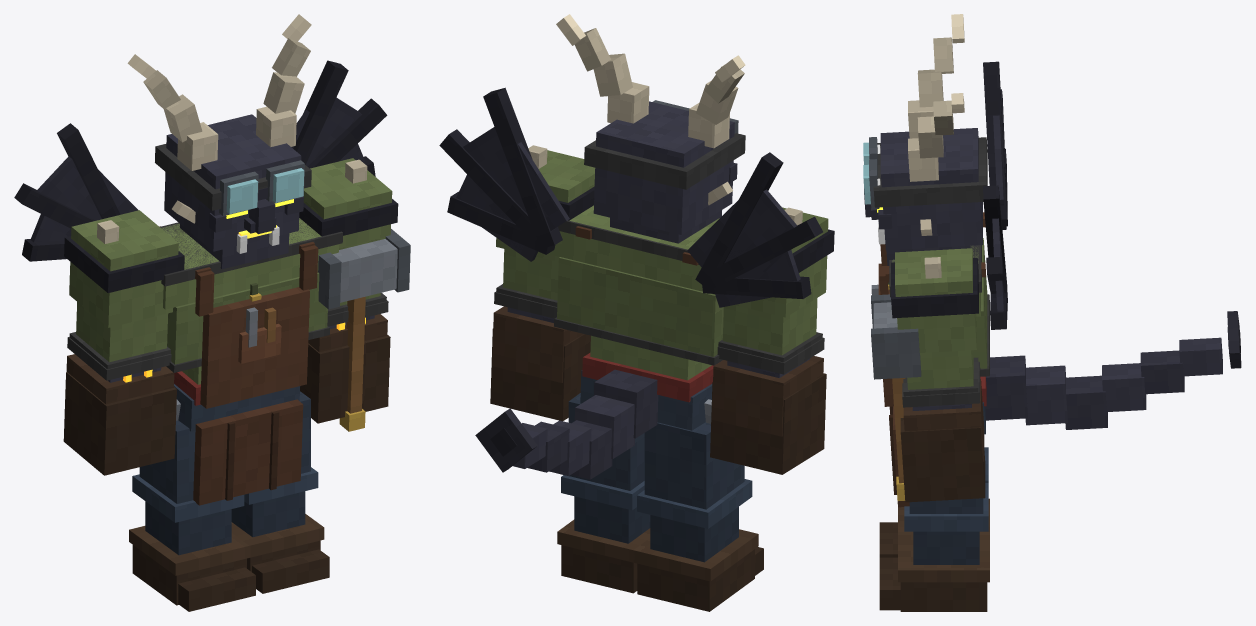
Rendered from demon_forgeron_v3.glb.
The picture shows the model from 3 angles, left to right: view 1: azimuth 30°, elevation 25°; view 2: azimuth 150°, elevation 25°; view 3: azimuth 270°, elevation 25°; orthographic projection. The views are drawn at different scales.
Parts seen in each view (by area): view 1: Torso, ArmR, Head, LegR, ArmL, LegL, HandL; view 2: Torso, Head, ArmR, LegR, ArmL, LegL; view 3: Torso, ArmL, Head, LegL, HandL, LegR.
Boxes of the visible parts, x1,y1,x2,y2 form: Torso: (14,60,387,505); ArmR: (63,210,184,475); Head: (127,14,311,269); LegR: (129,420,255,611); ArmL: (299,158,398,423); LegL: (231,391,329,593); HandL: (318,229,410,431); Torso: (439,87,822,479); Head: (556,14,745,243); ArmR: (710,207,834,474); LegR: (633,422,763,611); ArmL: (490,145,595,421); LegL: (557,393,650,593); Torso: (871,61,1241,507); ArmL: (891,248,985,502); Head: (863,14,987,265); LegL: (879,483,989,611); HandL: (871,294,921,500); LegR: (879,447,989,557).
Bounding box in the file's own units: 1.58 × 2.2 × 1.44.
Materials: 43 (43 with a texture image).
